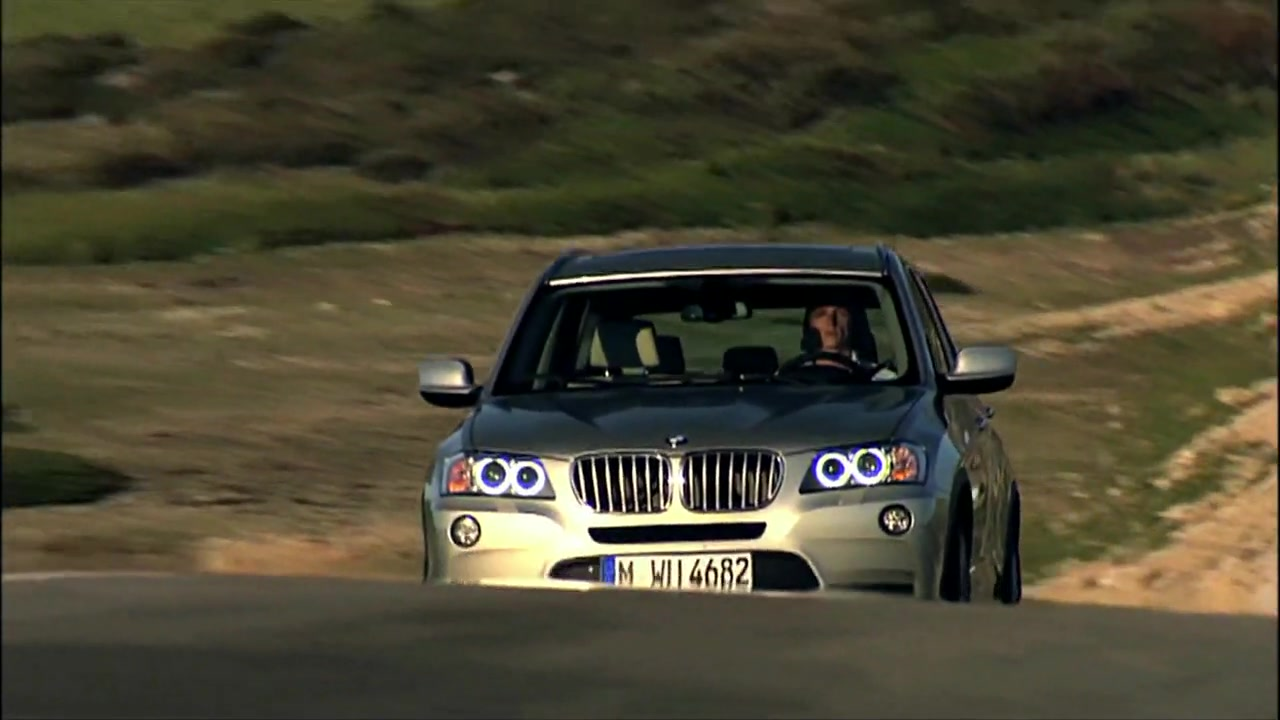car: (399, 237, 1032, 614)
